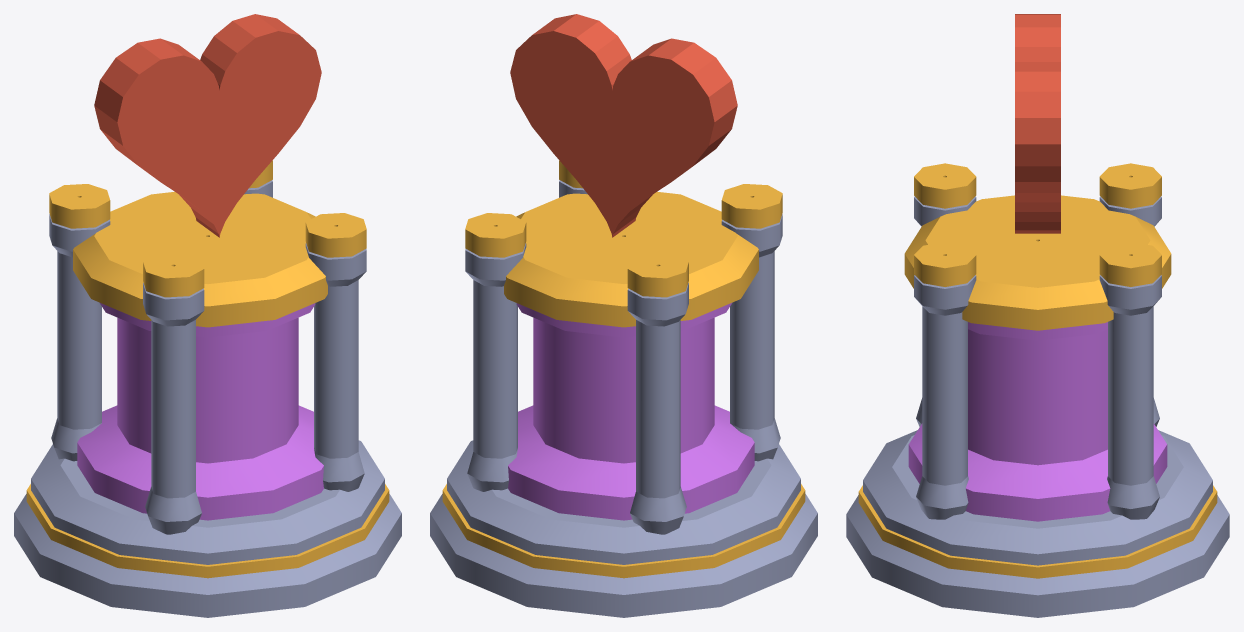
Rendered from player_shrine.glb.
3 renders of one model, left to right at view 1: azimuth 30°, elevation 25°; view 2: azimuth 150°, elevation 25°; view 3: azimuth 270°, elevation 25°, orthographic.
Visible parts, largest first — view 1: player_shrine_body, player_shrine_blessing; view 2: player_shrine_body, player_shrine_blessing; view 3: player_shrine_body, player_shrine_blessing.
Part boxes in pixels (x1,y1,x2,y2): player_shrine_body: (14, 160, 401, 617); player_shrine_blessing: (94, 14, 321, 237); player_shrine_body: (430, 160, 817, 617); player_shrine_blessing: (510, 14, 737, 237); player_shrine_body: (846, 163, 1229, 617); player_shrine_blessing: (1015, 14, 1060, 233).
Size of the model in its own units: 1.84 by 2.61 by 1.84.
1 material, 1 textured.
